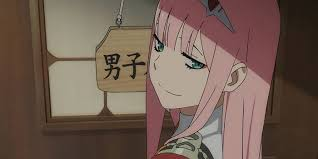zeroTwo: (145, 1, 280, 112)
